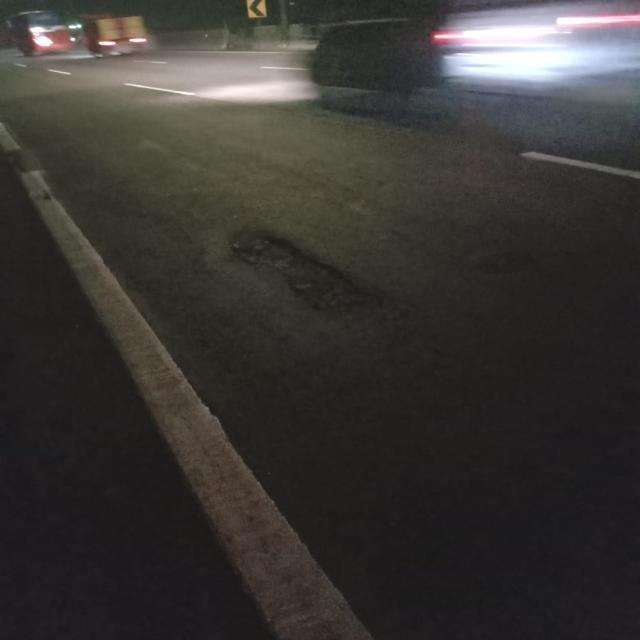Buraco: (225, 226, 387, 314), (472, 247, 598, 278)
